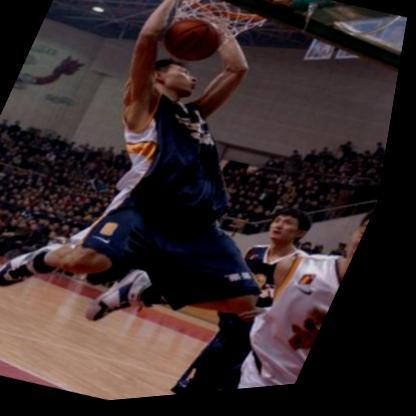basketball: (158, 14, 231, 72)
